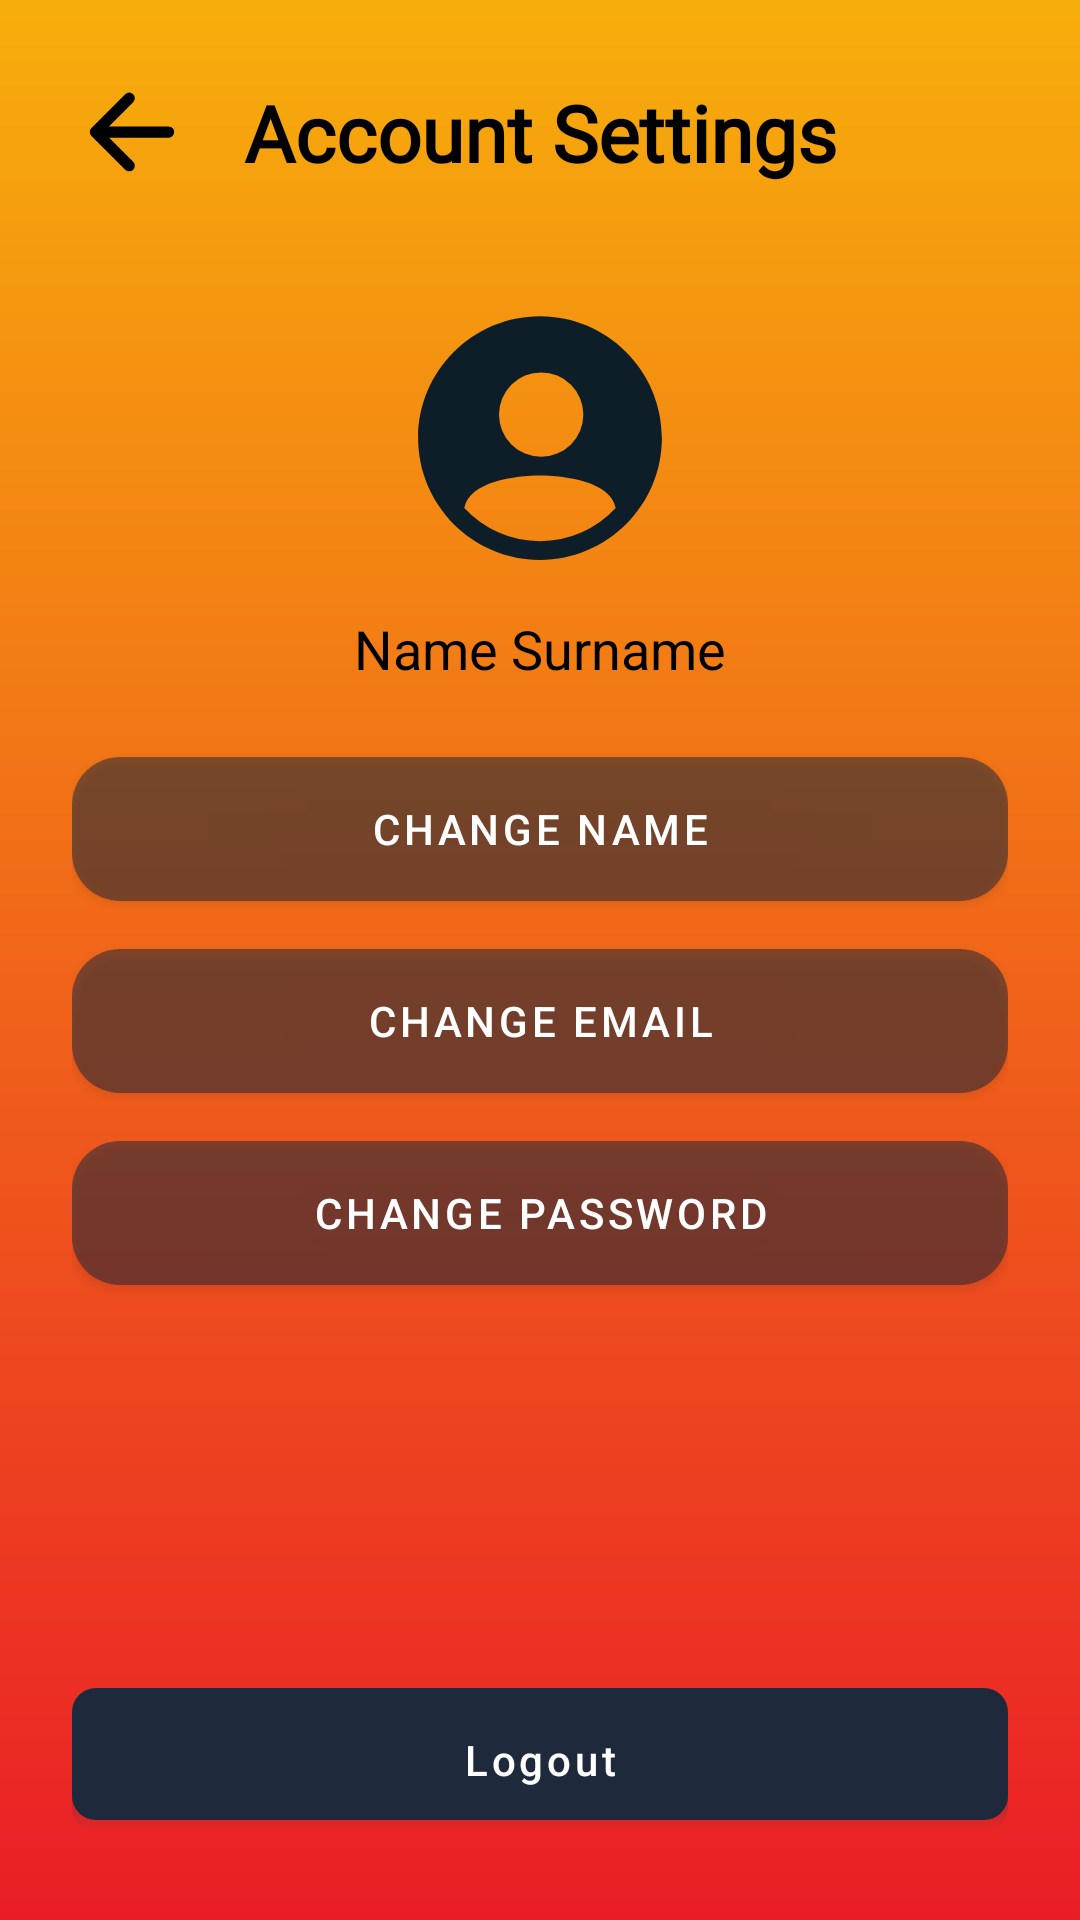

Icons on this 1080x1920 Android screen, each with the point to tap as [x,y]:
Back: [131,132]
user: [540,438]
